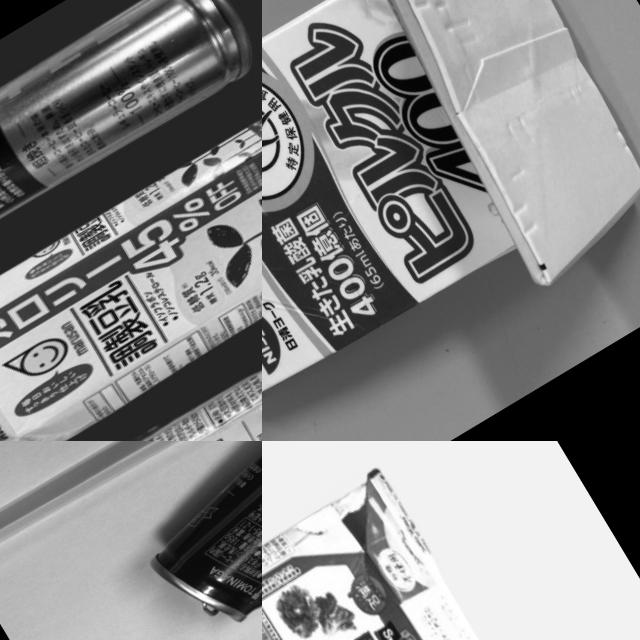Aluminium Foil: (262, 0, 640, 441), (0, 53, 262, 441), (0, 241, 262, 441), (262, 460, 539, 640), (89, 441, 262, 640), (118, 441, 262, 640)
Can: (0, 0, 262, 300)
